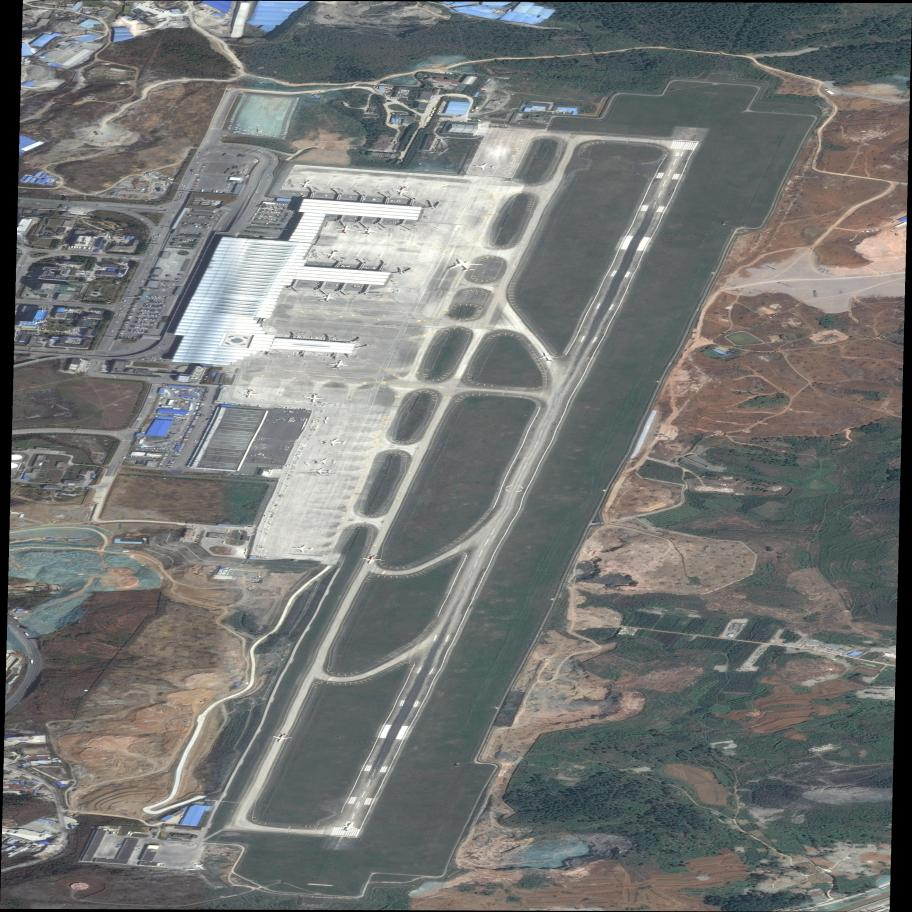plane: (442, 255, 490, 275), (323, 359, 352, 370), (534, 351, 560, 363), (390, 185, 416, 197), (334, 821, 362, 832), (320, 249, 347, 260), (269, 732, 295, 743), (358, 554, 384, 565), (331, 224, 357, 235), (313, 293, 339, 303), (188, 860, 209, 872), (301, 393, 326, 403), (321, 438, 347, 447), (471, 163, 499, 171), (292, 544, 316, 553), (237, 389, 261, 398), (356, 226, 380, 235), (311, 457, 337, 465), (309, 467, 334, 475), (296, 179, 316, 188)
